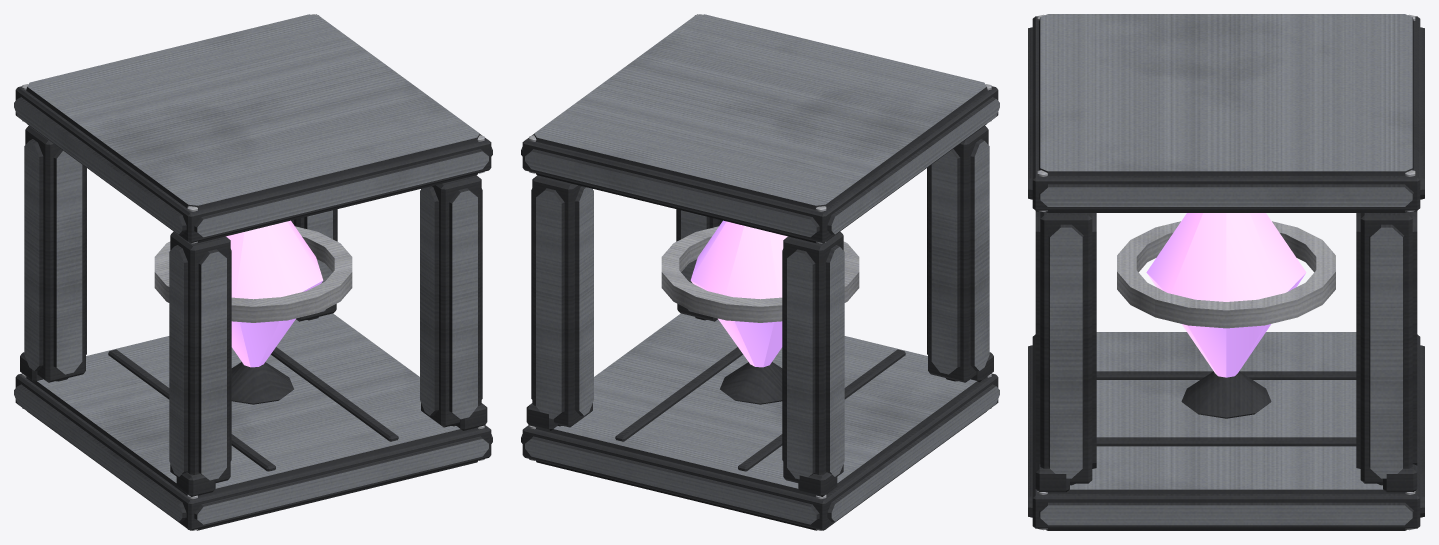
Rendered from R4X_CoreBooster.glb.
3 views of the same model, side by side, from view 1: azimuth 30°, elevation 25°; view 2: azimuth 150°, elevation 25°; view 3: azimuth 270°, elevation 25° (orthographic). The views are drawn at different scales.
Visible parts, largest first — view 1: R4X_CoreBooster_Body; view 2: R4X_CoreBooster_Body; view 3: R4X_CoreBooster_Body.
Boxes of the visible parts, x1,y1,x2,y2 form: R4X_CoreBooster_Body: (14, 14, 492, 530); R4X_CoreBooster_Body: (521, 14, 999, 530); R4X_CoreBooster_Body: (1028, 14, 1424, 530).
Size of the model in its own units: 0.52 by 0.52 by 0.52.
Materials: 4 (3 with a texture image).
